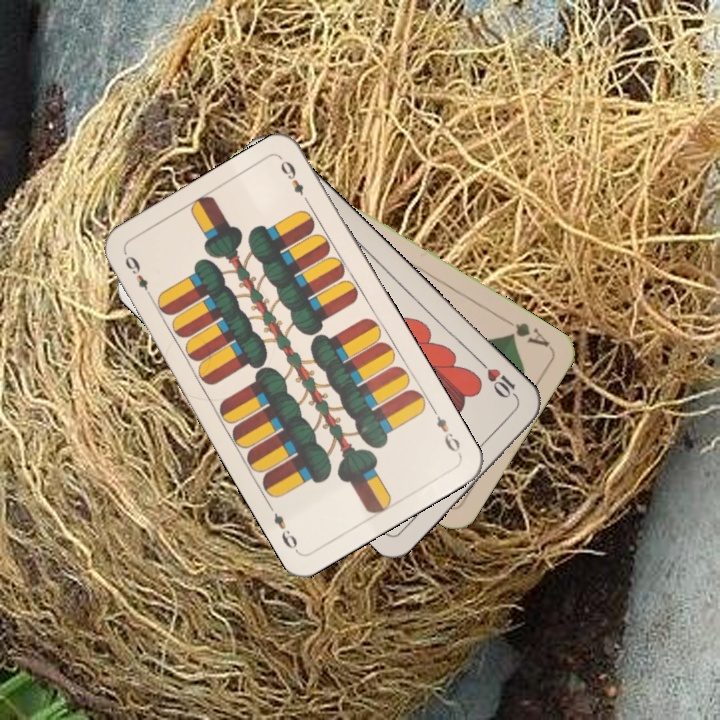E9: (120, 249, 157, 303), (428, 404, 463, 458)
GA: (499, 314, 553, 350)
H10: (475, 356, 521, 403)
